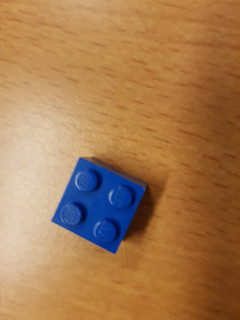2x2 blue: (49, 156, 150, 257)
